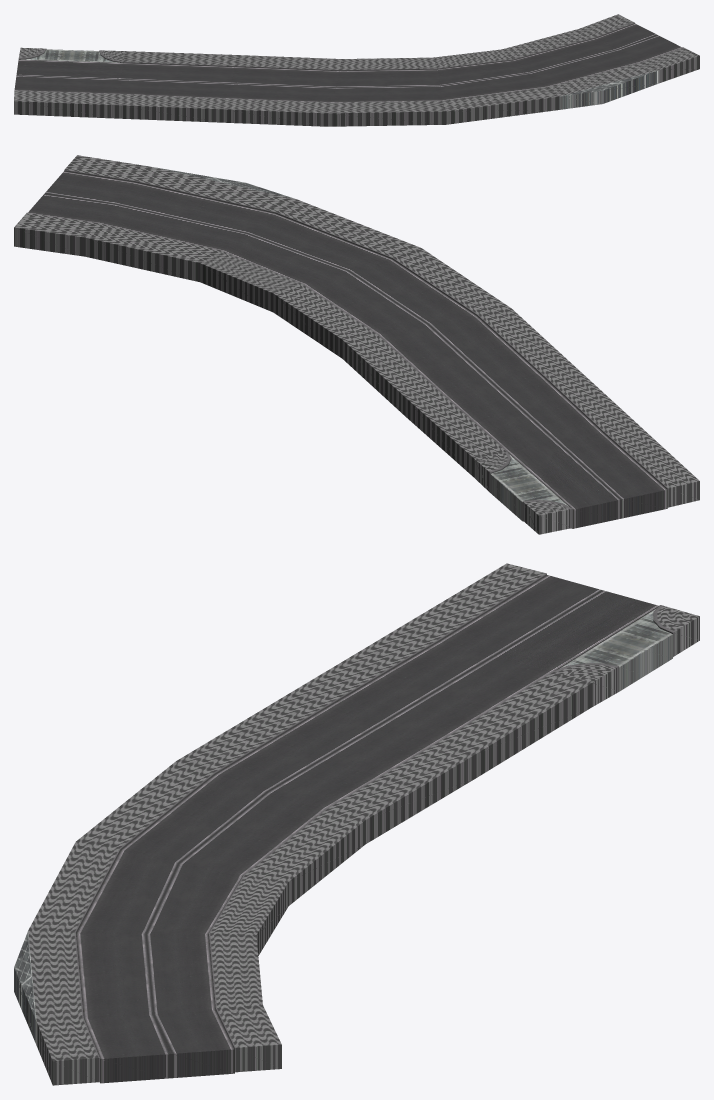
File: road_sfw05.obj
The picture shows the model from 3 angles, top to bottom: view 1: azimuth 30°, elevation 25°; view 2: azimuth 150°, elevation 25°; view 3: azimuth 270°, elevation 25°; orthographic projection. The views are drawn at different scales.
Visible parts, largest first — view 1: road_SFW05; view 2: road_SFW05; view 3: road_SFW05.
Boxes of the visible parts, x1,y1,x2,y2 form: road_SFW05: (14,14,699,126); road_SFW05: (14,155,699,534); road_SFW05: (14,563,699,1085).
Size of the model in its own units: 123 by 3 by 71.81.
5 materials, 5 textured.
